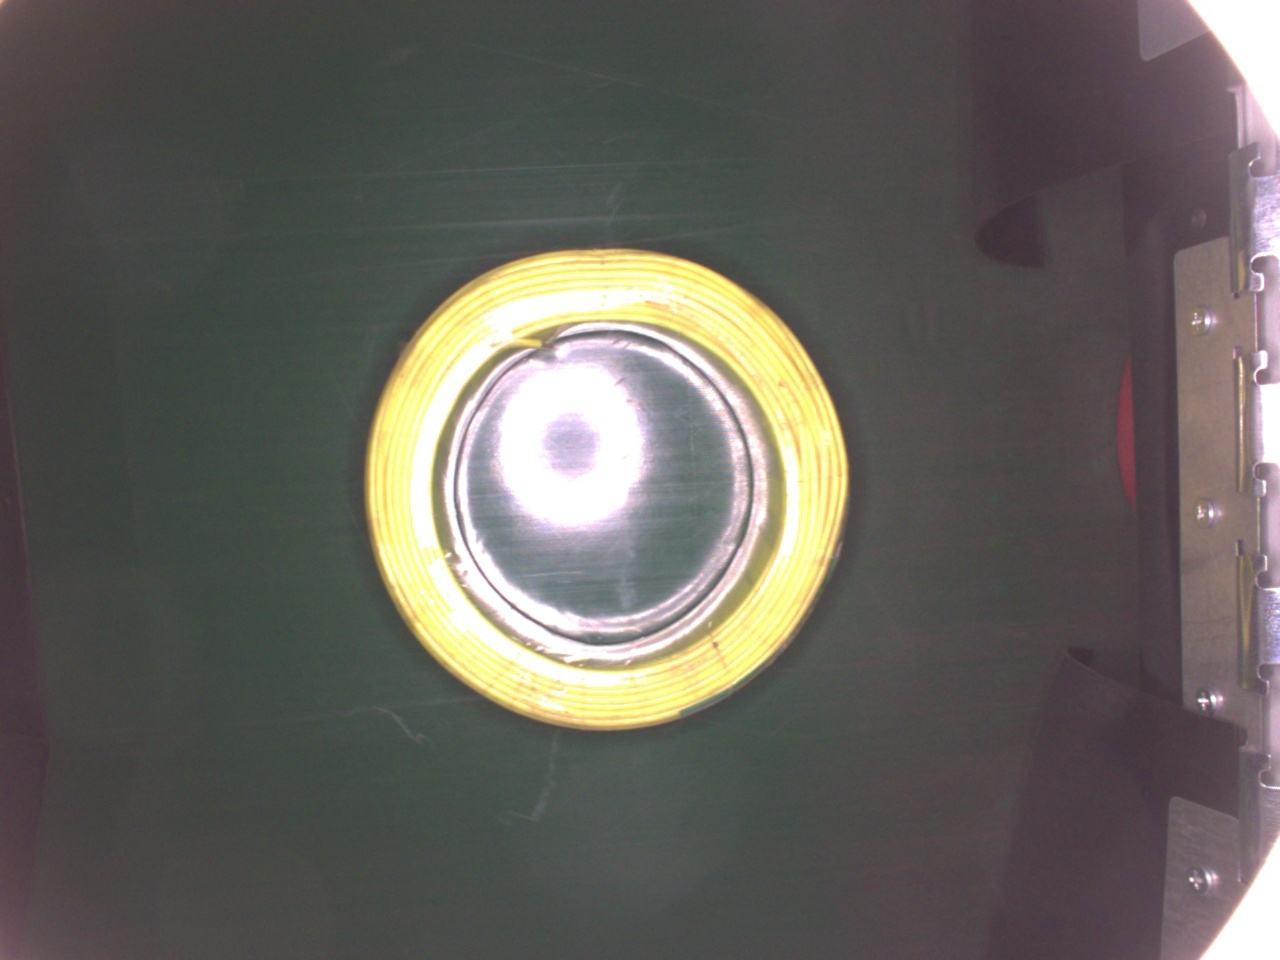yellow: (363, 242, 848, 731)
